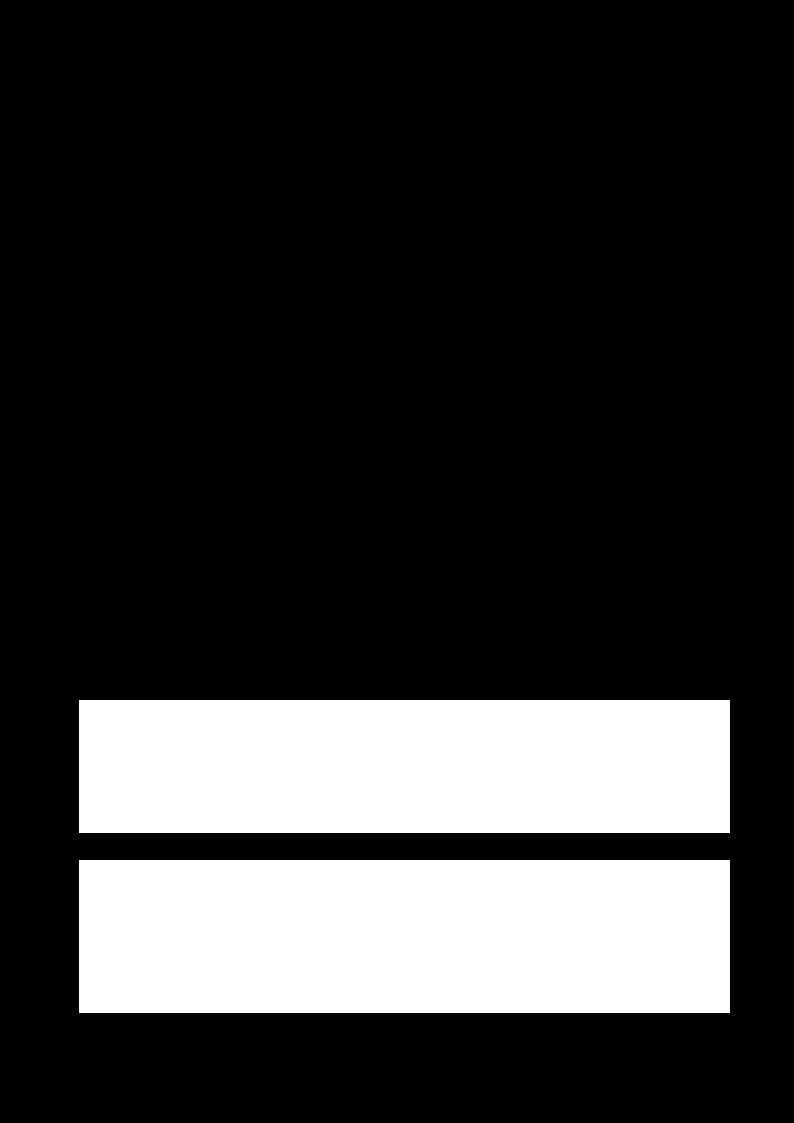table: (79, 860, 729, 1012), (79, 700, 729, 832)
